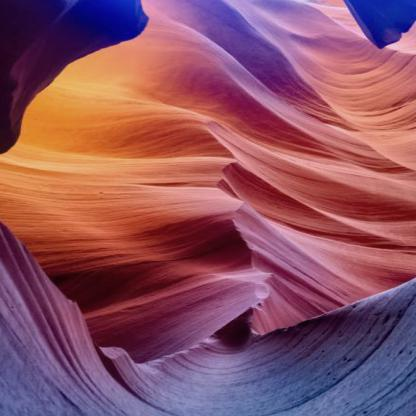Sedimentary_Sandstone: (1, 218, 151, 415), (0, 0, 163, 154), (165, 184, 281, 331), (205, 7, 297, 161), (318, 69, 415, 195), (325, 218, 415, 293), (341, 0, 415, 53)
